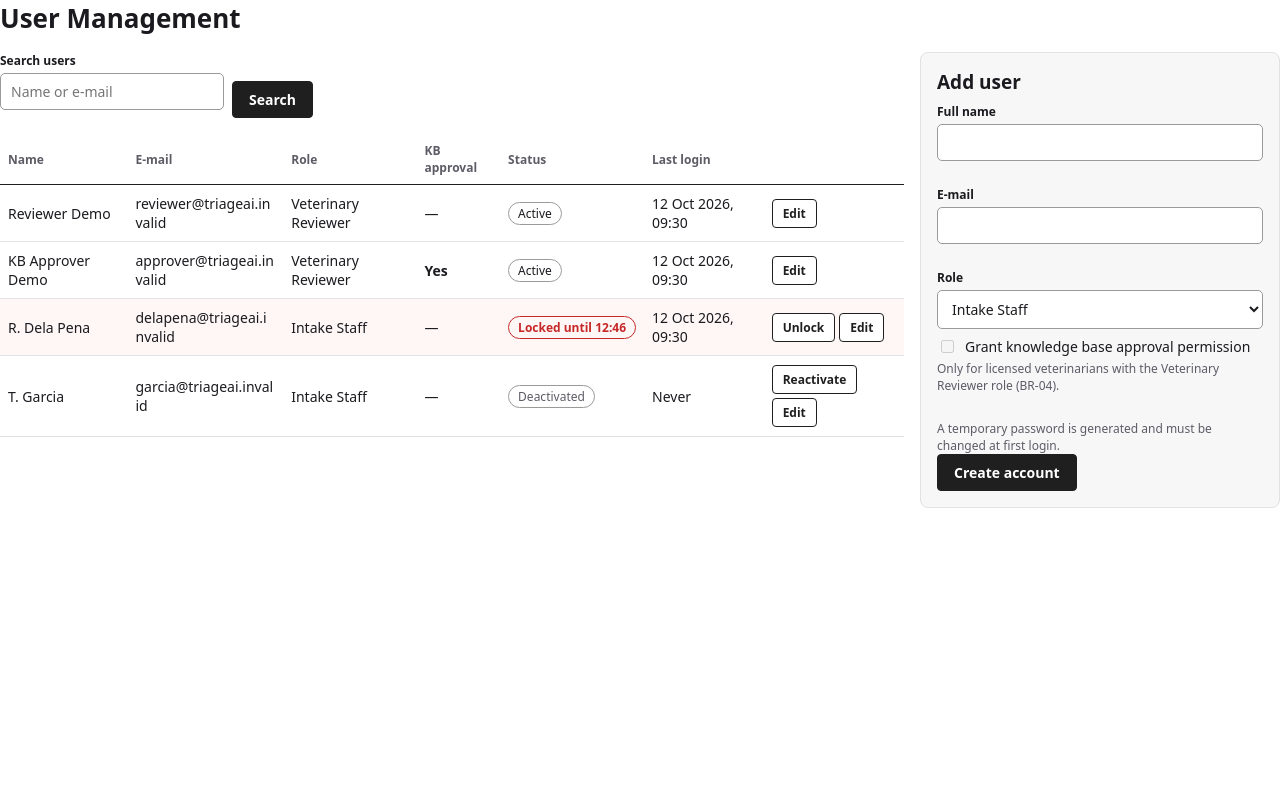
Test: the add-user panel (BR-04) › shows the temporary password once, with its warning, and drops it on close
Expected: the text "Reviewer Demo" is shown, [0, 184, 128, 242]
Type "Maria Santos" into the field labelled "Full name" at (1100, 142), box [937, 124, 1263, 161]
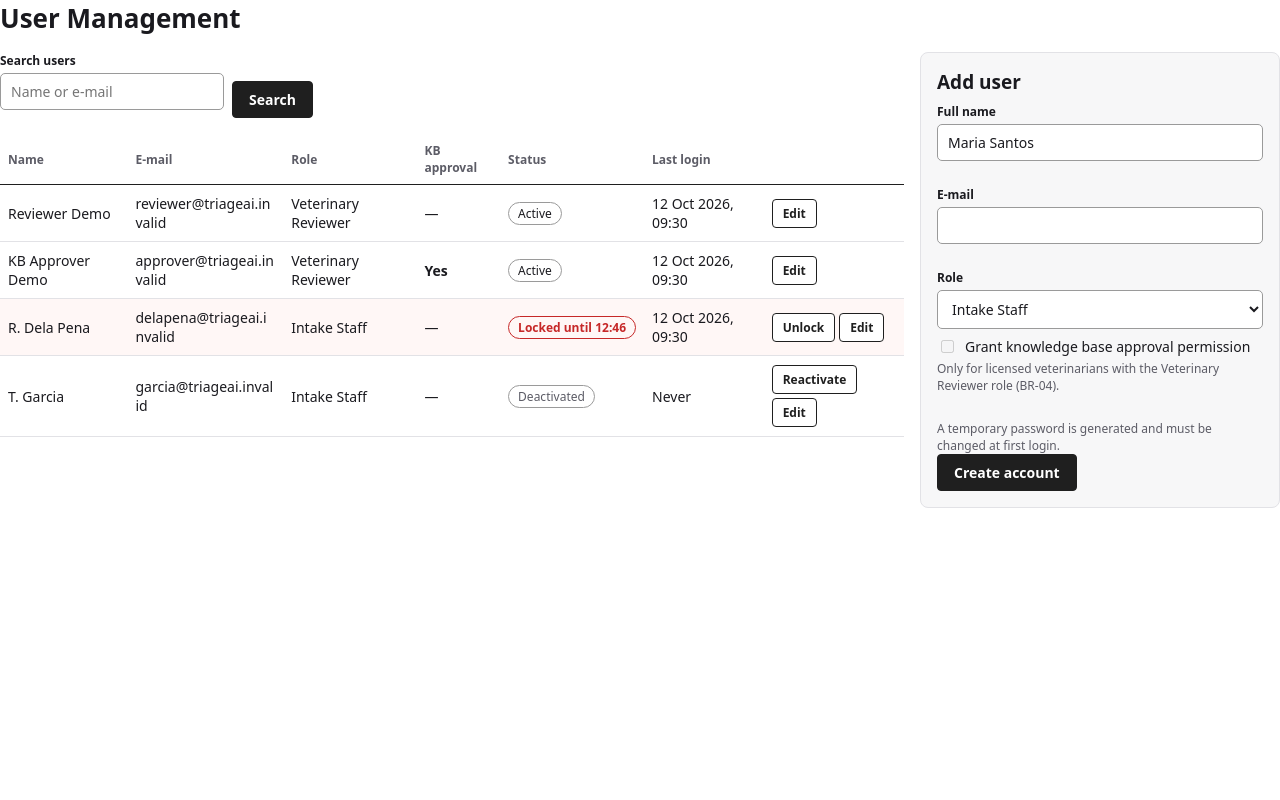
Type "maria.santos@triageai.invalid" into the field labelled "E-mail" at (1100, 226), box [937, 207, 1263, 244]
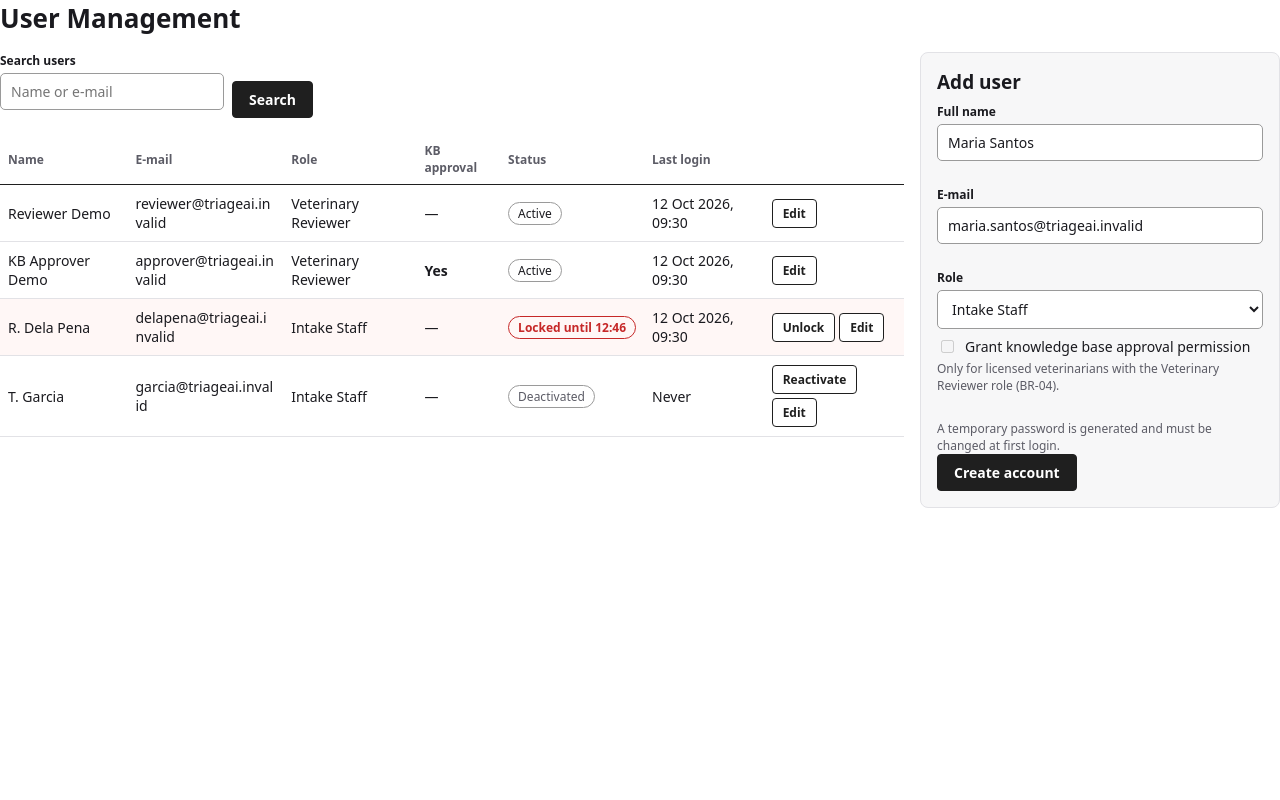
Click the button "Create account" at (1007, 472), box [937, 454, 1077, 491]
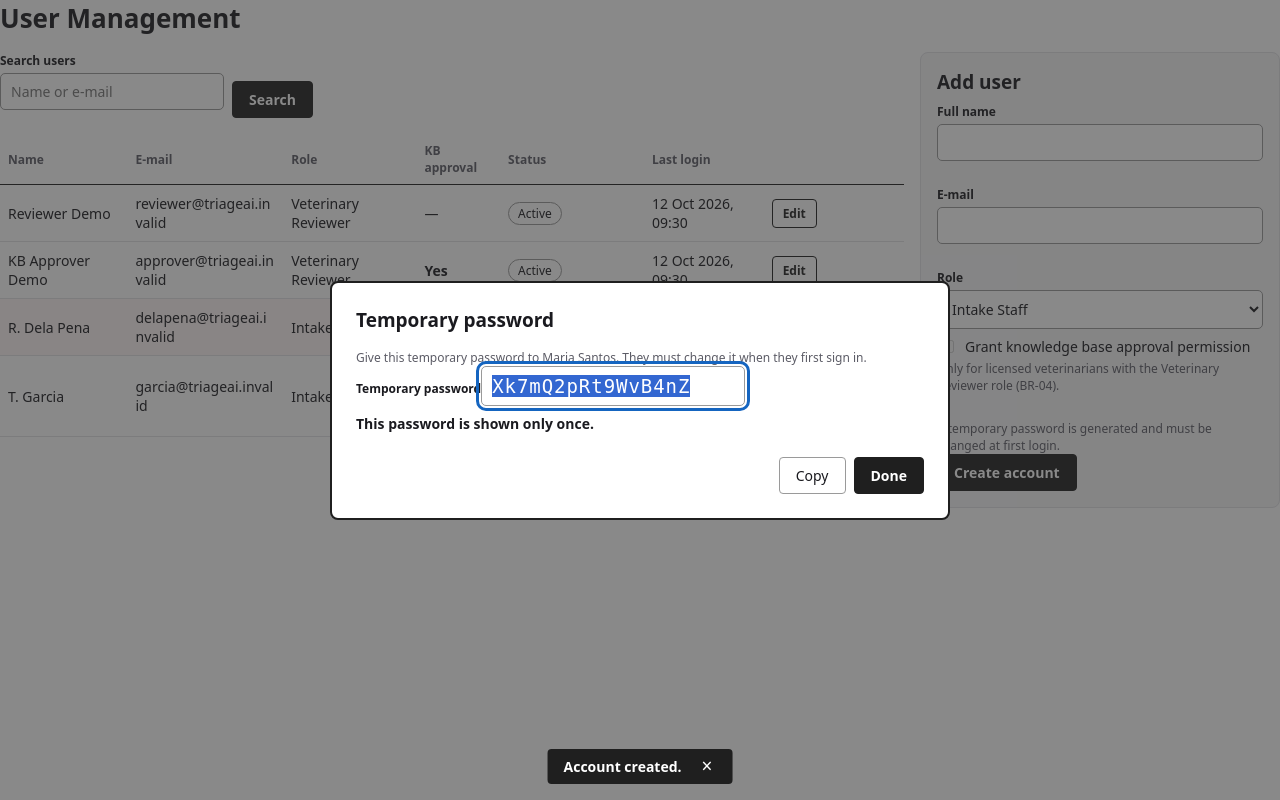
Expected: the field labelled "Temporary password" holds "Xk7mQ2pRt9WvB4nZ", [481, 366, 745, 406]
Expected: the text "This password is shown only once." is shown, [356, 414, 594, 432]
Click the button "Copy" at (812, 475), box [779, 456, 846, 494]
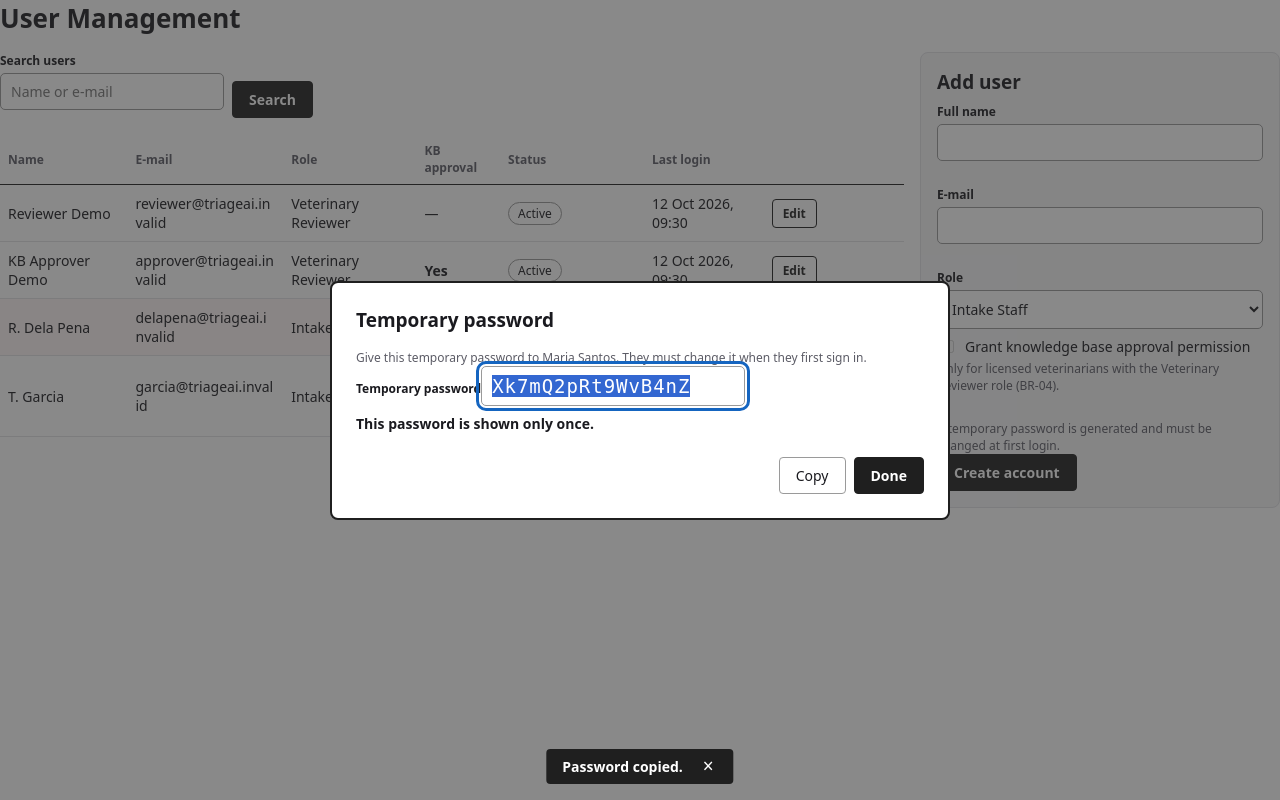
Click the button "Done" at (889, 475), box [854, 456, 924, 494]
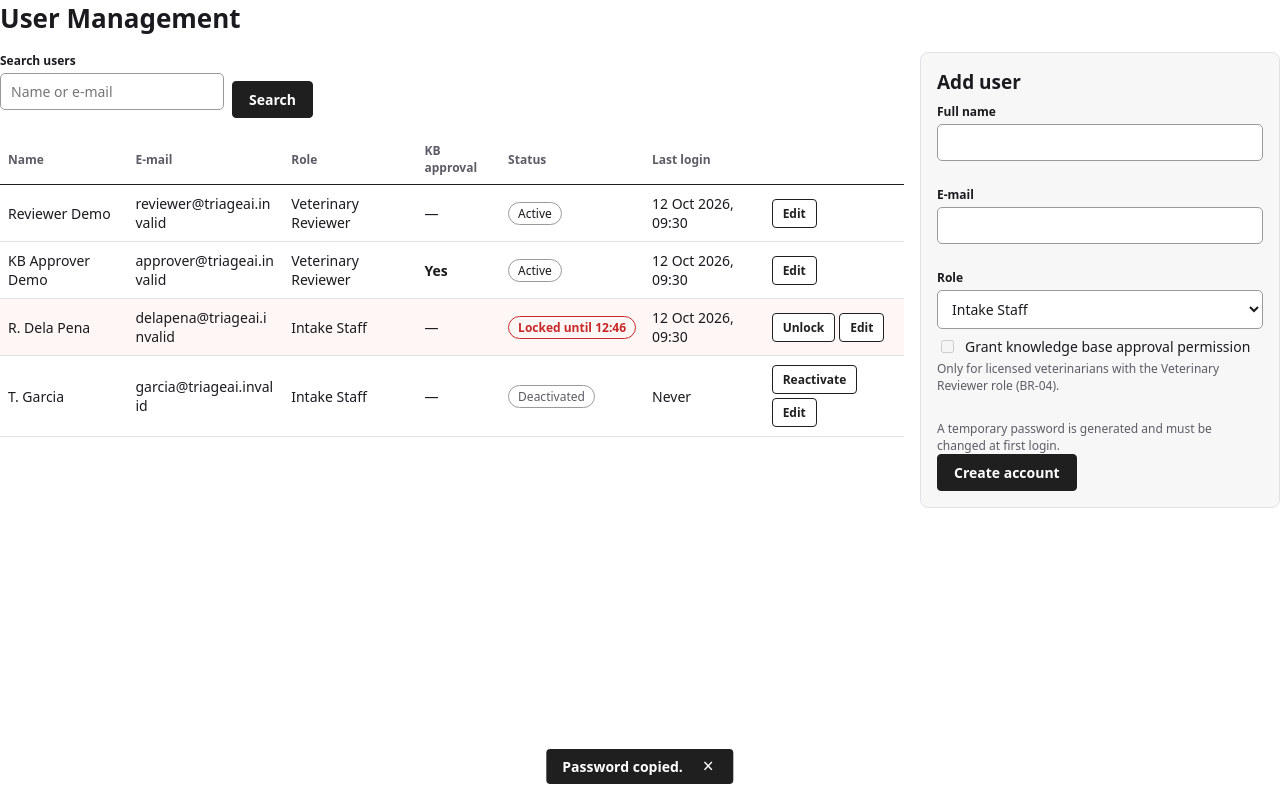
Expected: the text "Xk7mQ2pRt9WvB4nZ" is not shown
Expected: the field labelled "Full name" is empty, [937, 124, 1263, 161]
Expected: the dialog is gone
